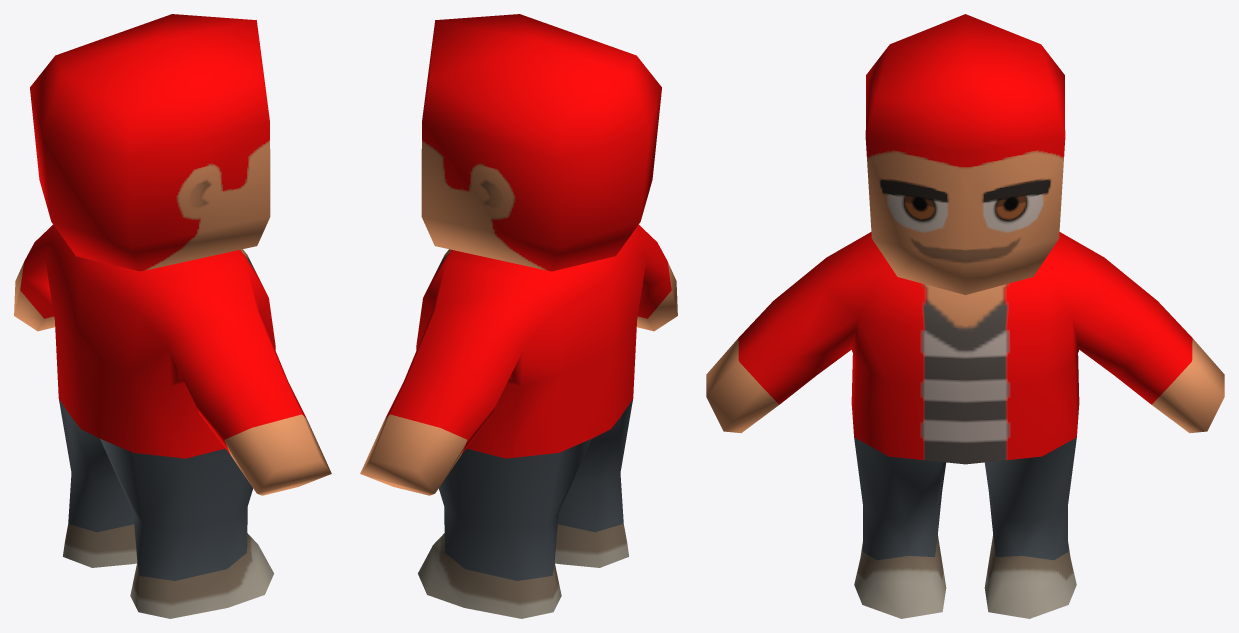
The model's file is Player.fbx.
3 renders of one model, left to right at view 1: azimuth 30°, elevation 25°; view 2: azimuth 150°, elevation 25°; view 3: azimuth 270°, elevation 25°, orthographic.
Visible parts, largest first — view 1: Body_09_jacket; view 2: Body_09_jacket; view 3: Body_09_jacket.
Part boxes in pixels (box(x1,y1,x2,y2)): Body_09_jacket: box(14, 14, 331, 618); Body_09_jacket: box(360, 14, 677, 618); Body_09_jacket: box(706, 14, 1224, 618).
Size of the model in its own units: 13.2 by 31.17 by 27.7.
1 material, 1 textured.
